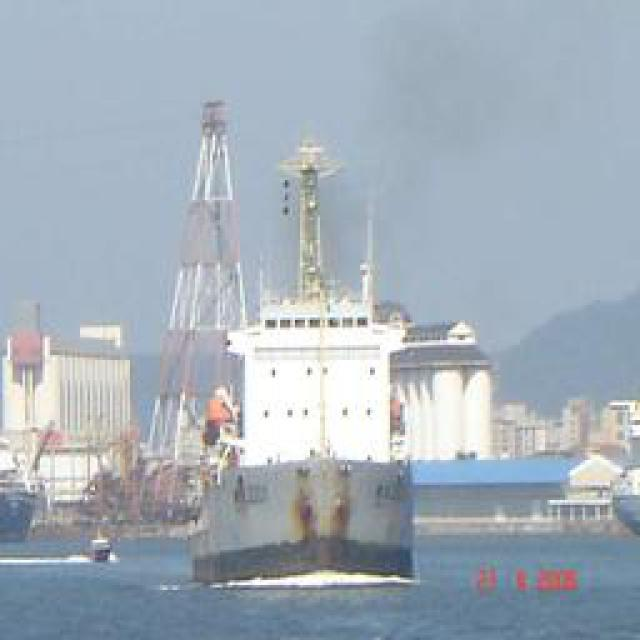Ship: (188, 135, 431, 595), (82, 527, 123, 569)
